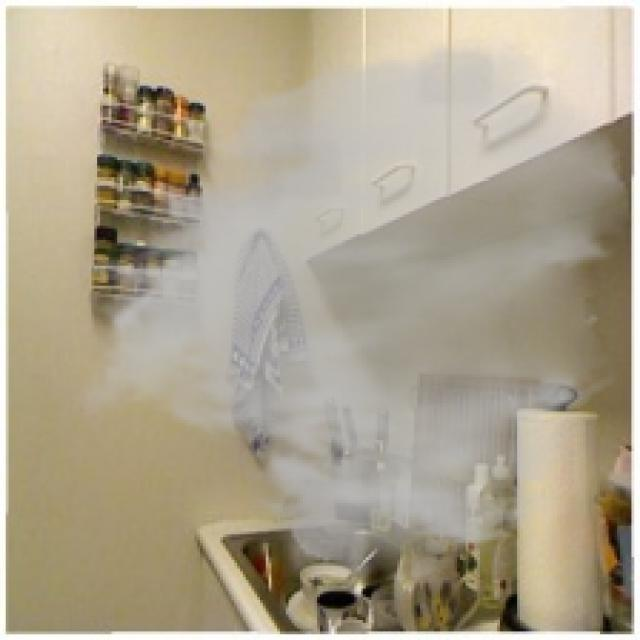Smoke: (71, 31, 634, 588)
